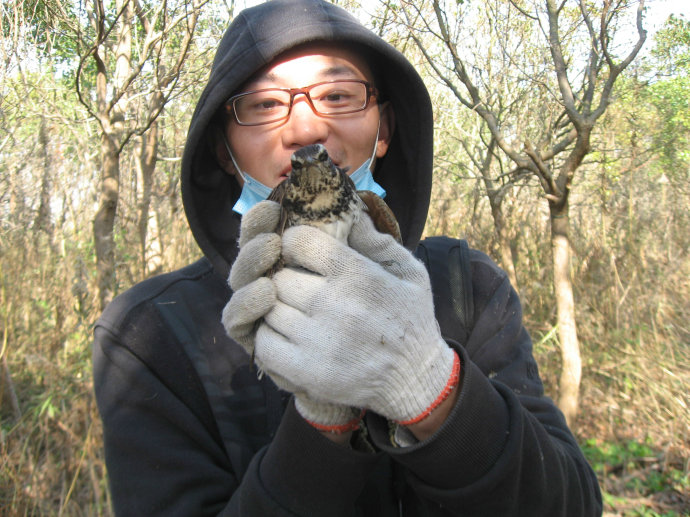face: (237, 43, 380, 210)
